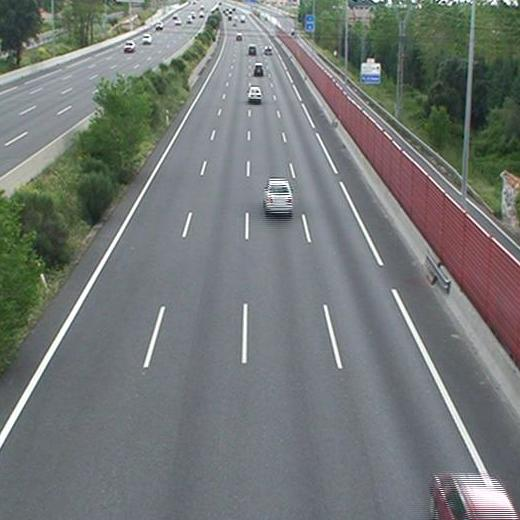car: (264, 179, 293, 212), (248, 87, 261, 100), (253, 63, 262, 74), (263, 45, 271, 53), (247, 45, 254, 53)
